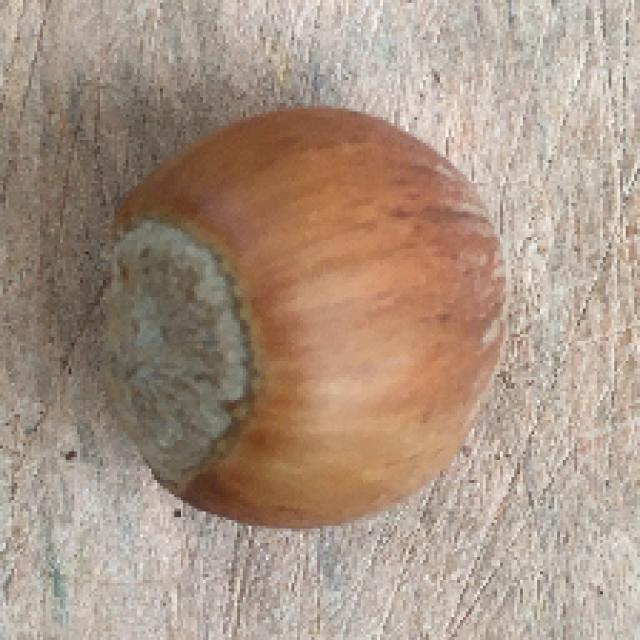qualityHazelnut: (86, 115, 533, 531)
